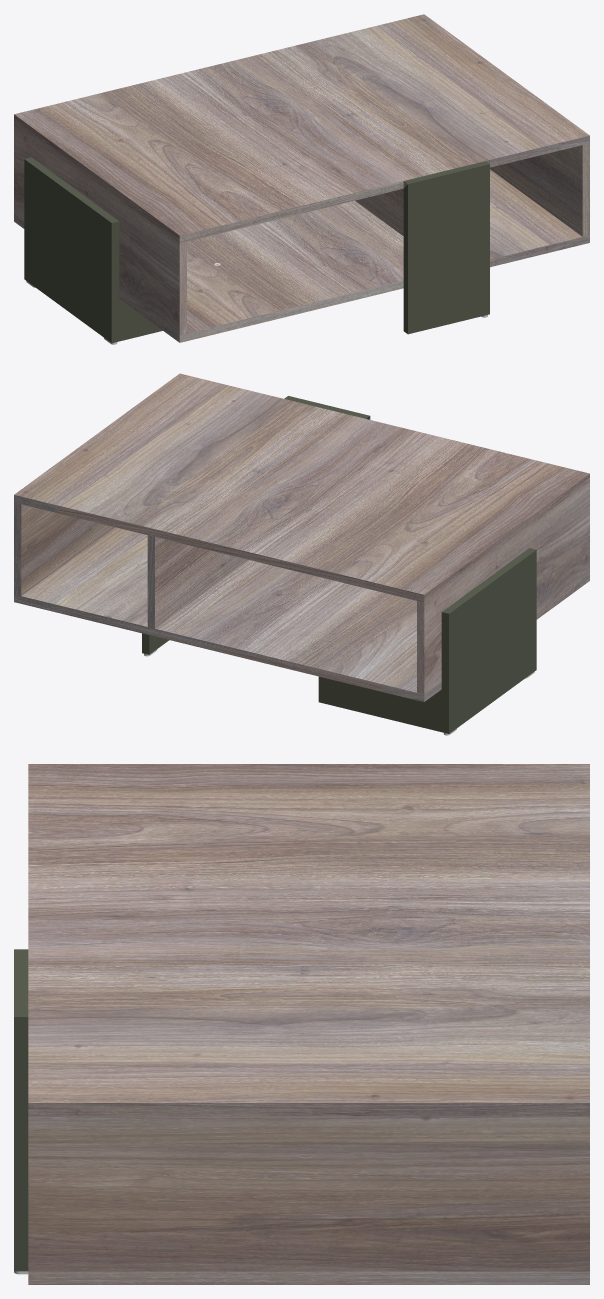
3 renders of one model, top to bottom at view 1: azimuth 30°, elevation 25°; view 2: azimuth 150°, elevation 25°; view 3: azimuth 270°, elevation 25°, orthographic. The views are drawn at different scales.
Parts seen in each view (by area): view 1: SketchUp.020, SketchUp.001, SketchUp.099, SketchUp.112; view 2: SketchUp.020, SketchUp.099, SketchUp.112, SketchUp.001; view 3: SketchUp.020, SketchUp.001.
Part boxes in pixels (x1=…): SketchUp.020: x1=14, y1=14, x2=589, y2=342; SketchUp.001: x1=403, y1=161, x2=489, y2=334; SketchUp.099: x1=24, y1=157, x2=162, y2=343; SketchUp.112: x1=14, y1=122, x2=186, y2=334; SketchUp.020: x1=14, y1=373, x2=589, y2=701; SketchUp.099: x1=318, y1=548, x2=536, y2=733; SketchUp.112: x1=417, y1=481, x2=589, y2=694; SketchUp.001: x1=142, y1=396, x2=370, y2=654; SketchUp.020: x1=28, y1=764, x2=589, y2=1284; SketchUp.001: x1=14, y1=949, x2=28, y2=1271.
Size of the model in its own units: 1.02 by 0.355 by 0.718.
10 materials, 2 textured.
